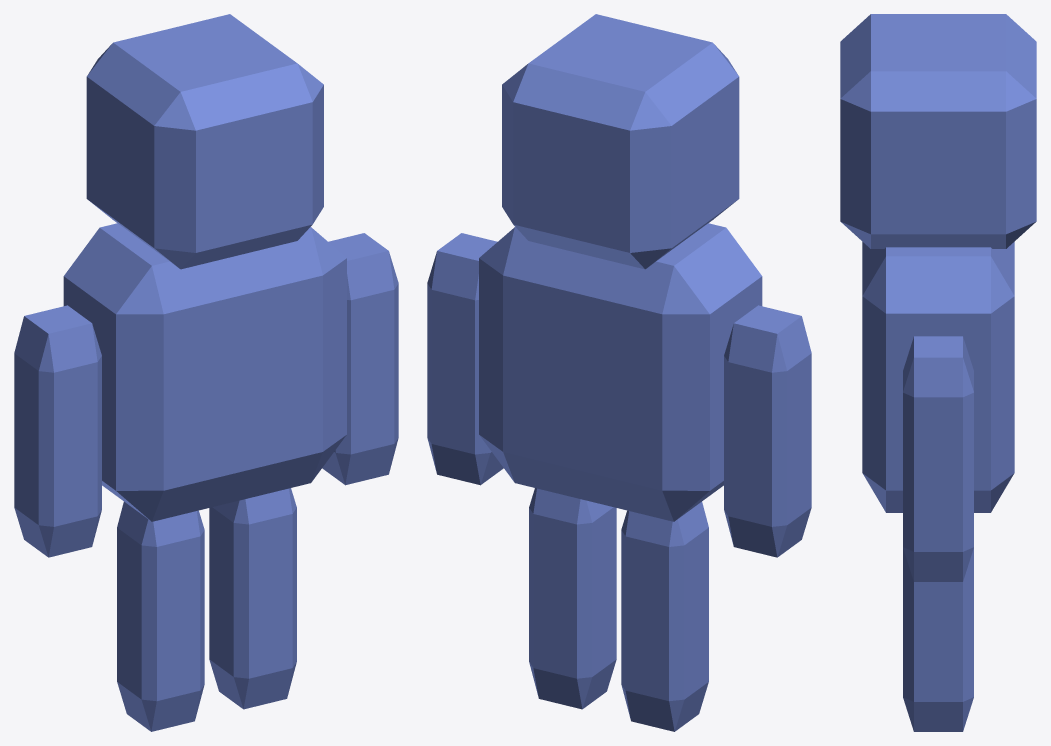
File: Worker.fbx
3 views of the same model, side by side, from view 1: azimuth 30°, elevation 25°; view 2: azimuth 150°, elevation 25°; view 3: azimuth 270°, elevation 25° (orthographic).
Parts seen in each view (by area): view 1: Cube.001, Cube, Cube.004, Cube.003, Cube.002, Cube.005; view 2: Cube.001, Cube, Cube.004, Cube.003, Cube.002, Cube.005; view 3: Cube, Cube.001, Cube.005, Cube.002.
Part boxes in pixels (bbox=[...]): Cube.001: bbox=[63, 223, 346, 521]; Cube: bbox=[86, 14, 323, 269]; Cube.004: bbox=[14, 305, 101, 557]; Cube.003: bbox=[117, 502, 204, 731]; Cube.002: bbox=[209, 488, 296, 709]; Cube.005: bbox=[322, 233, 398, 485]; Cube.001: bbox=[479, 223, 762, 521]; Cube: bbox=[502, 14, 739, 269]; Cube.004: bbox=[724, 305, 811, 557]; Cube.003: bbox=[621, 502, 708, 731]; Cube.002: bbox=[529, 488, 616, 709]; Cube.005: bbox=[427, 233, 503, 485]; Cube: bbox=[840, 14, 1036, 248]; Cube.001: bbox=[862, 242, 1014, 512]; Cube.005: bbox=[903, 336, 973, 581]; Cube.002: bbox=[903, 548, 973, 731].
Bounding box in the file's own units: 424 × 737 × 200.
